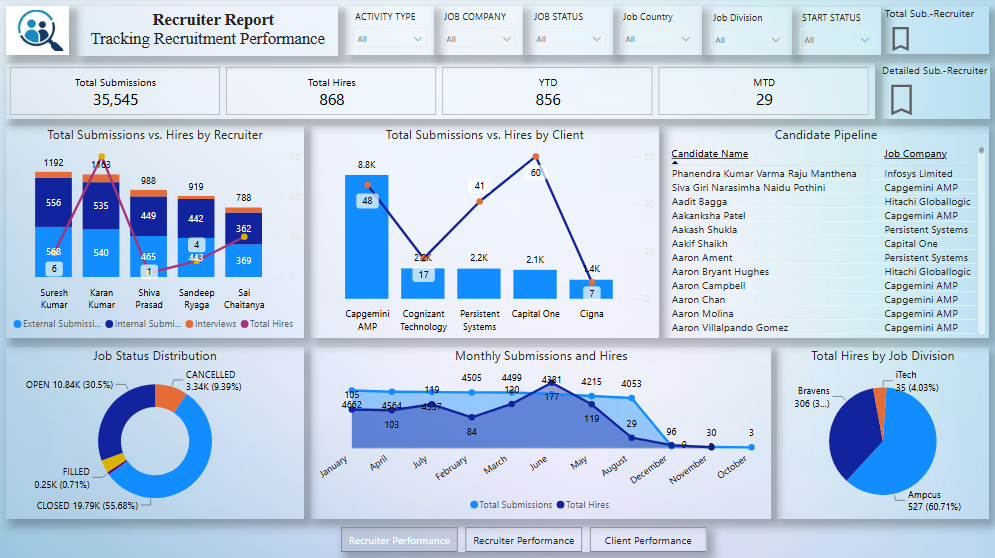

Layout of this report page (visuals, bound fields, positions):
{"tool":"powerbi","page":{"name":"Recruiter Performance","canvas":[1280,720],"ordinal":0},"visuals":[{"type":"slicer","fields":{"Values":["data.ACTIVITY TYPE"]},"box":[443.6,10.9,115,63.4],"z":0},{"type":"cardVisual","fields":{"Data":["CountNonNull(data.SUBMIT DATE)","data.Total Hires","data.YTD","data.MTD"]},"box":[8.2,83.3,1117.1,72.4],"z":1000},{"type":"slicer","fields":{"Values":["data.JOB COMPANY"]},"box":[558.5,10.9,115,63.4],"z":2000},{"type":"actionButton","title":"Detailed Sub.-Recruiter","box":[1133.4,83.3,138.5,72.4],"z":3000},{"type":"slicer","fields":{"Values":["data.JOB STATUS"]},"box":[673.5,10.9,115,63.4],"z":4000},{"type":"lineStackedColumnComboChart","title":"Total Submissions vs. Hires by Recruiter","fields":{"Y":["data.Total External Submissions","data.Total Internal Submissions","data.Total Interviews"],"Y2":["data.Total Hires"],"Category":["data.RECRUITED BY"]},"box":[8.1,164.8,383.3,273.1],"z":5000},{"type":"slicer","fields":{"Values":["data.Job Country"]},"box":[788.5,10.9,115,63.4],"z":6000},{"type":"actionButton","title":"Total Sub.-Recruiter","box":[1137.9,10.9,134,62.5],"z":7000},{"type":"slicer","fields":{"Values":["data.Job Division"]},"box":[903.4,11.8,115,62.5],"z":8000},{"type":"donutChart","title":"Job Status Distribution","fields":{"Category":["data.JOB STATUS"],"Y":["CountNonNull(data.JOB STATUS)"]},"box":[8.1,448.7,383.3,221.2],"z":9000},{"type":"slicer","fields":{"Values":["data.START STATUS"]},"box":[1018.4,11.8,115,62.5],"z":10000},{"type":"lineChart","title":"Monthly Submissions and Hires","fields":{"Y":["data.Total Submissions"],"Y2":["data.Total Hires"],"Category":["Dim Date.Month"]},"box":[399.4,448.7,591.9,221.2],"z":11000},{"type":"tableEx","title":"Candidate Pipeline","fields":{"Values":["data.CANDIDATE FULL NAME","data.JOB COMPANY"]},"box":[852.5,164.8,419.1,273.1],"z":12000},{"type":"textbox","box":[98.5,10.7,335.8,63.6],"z":13000},{"type":"image","box":[8.2,10.9,80.6,63.4],"z":15000},{"type":"pieChart","title":"Total Hires by Job Division","fields":{"Category":["data.Job Division"],"Y":["data.Total Hires"]},"box":[999.4,448.7,272.2,221.2],"z":16000},{"type":"lineClusteredColumnComboChart","title":"Total Submissions vs. Hires by Client","fields":{"Y":["data.Total Submissions"],"Category":["data.JOB COMPANY"],"Y2":["data.Total Hires"]},"box":[399.4,164.8,446.9,273.1],"z":17000},{"type":"pageNavigator","box":[437.9,680.6,470.1,32.2],"z":18000}]}

Visuals, with their boxes in screenshot pixels (x1, y1, x2, y2), scaled from the page's 1280x720 canvas onto the 995x558 screenshot:
slicer - data.ACTIVITY TYPE: 345:8:434:58
cardVisual - CountNonNull(data.SUBMIT DATE) x data.Total Hires: 6:65:875:121
slicer - data.JOB COMPANY: 434:8:524:58
"Detailed Sub.-Recruiter" actionButton: 881:65:989:121
slicer - data.JOB STATUS: 524:8:613:58
"Total Submissions vs. Hires by Recruiter" lineStackedColumnComboChart: 6:128:304:339
slicer - data.Job Country: 613:8:702:58
"Total Sub.-Recruiter" actionButton: 885:8:989:57
slicer - data.Job Division: 702:9:792:58
"Job Status Distribution" donutChart: 6:348:304:519
slicer - data.START STATUS: 792:9:881:58
"Monthly Submissions and Hires" lineChart: 310:348:771:519
"Candidate Pipeline" tableEx: 663:128:988:339
textbox: 77:8:338:58
image: 6:8:69:58
"Total Hires by Job Division" pieChart: 777:348:988:519
"Total Submissions vs. Hires by Client" lineClusteredColumnComboChart: 310:128:658:339
pageNavigator: 340:527:706:552
